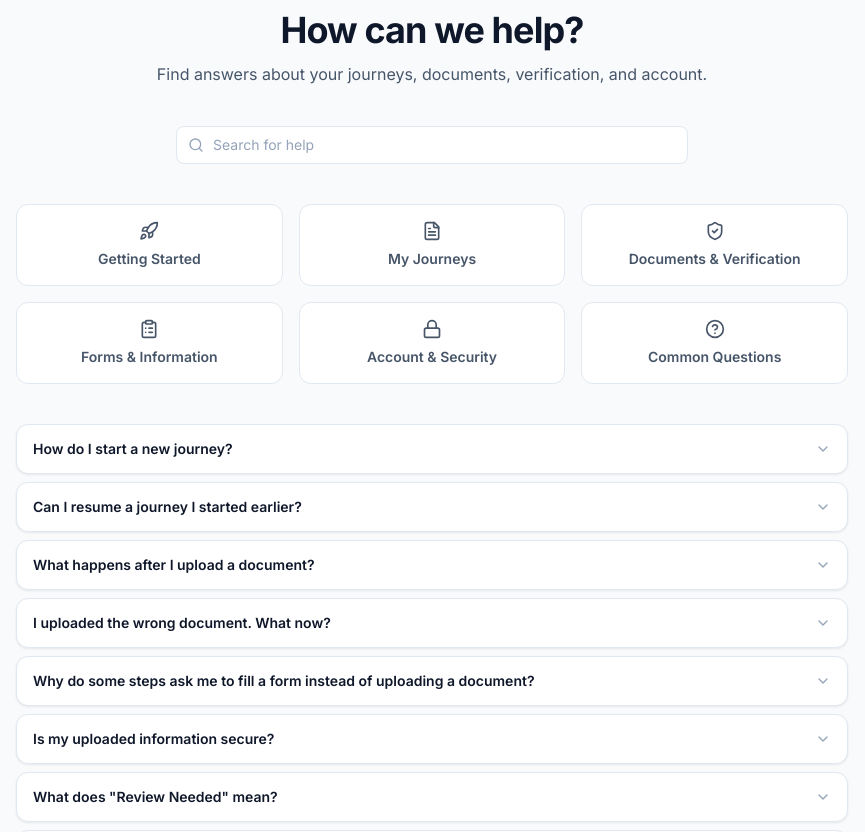
it: HelpScreen › expands and collapses an FAQ item on click
The width and height of the screenshot is (865, 832).
What coordinates should you click on to do the following:
click the button with test id "faq-trigger-faq-start-journey"
I would click on:
 (133, 448)
Its box is [17,425,847,473].
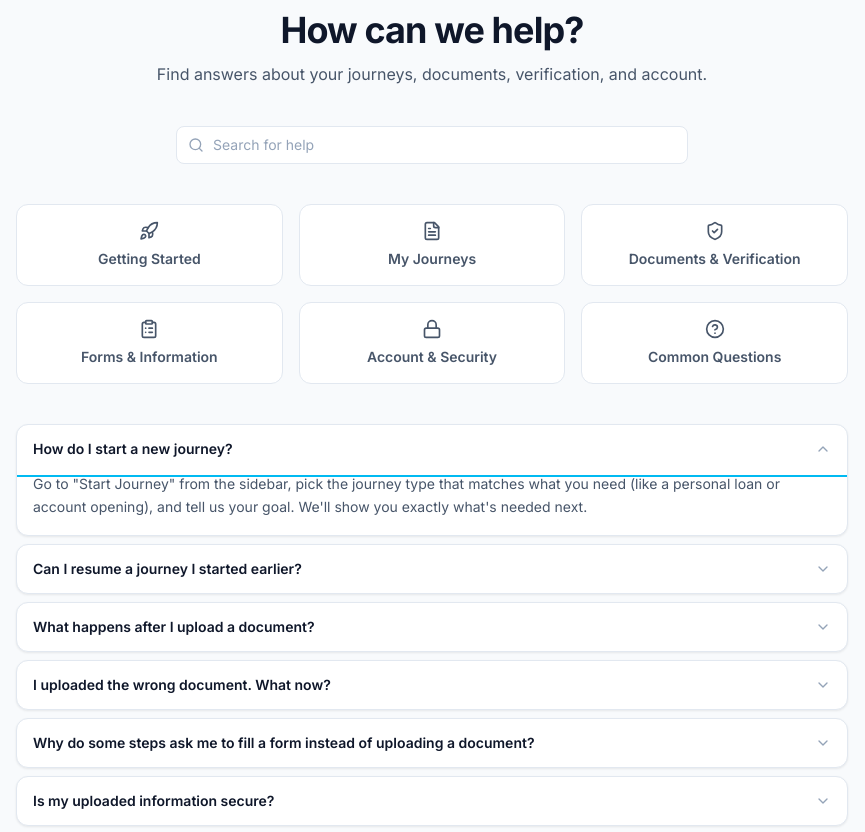
Check: the button with test id "faq-trigger-faq-start-journey" is expanded
What coordinates should you click on to do the following:
click the button with test id "faq-trigger-faq-start-journey"
I would click on:
 (133, 448)
Its box is [17,425,847,473].
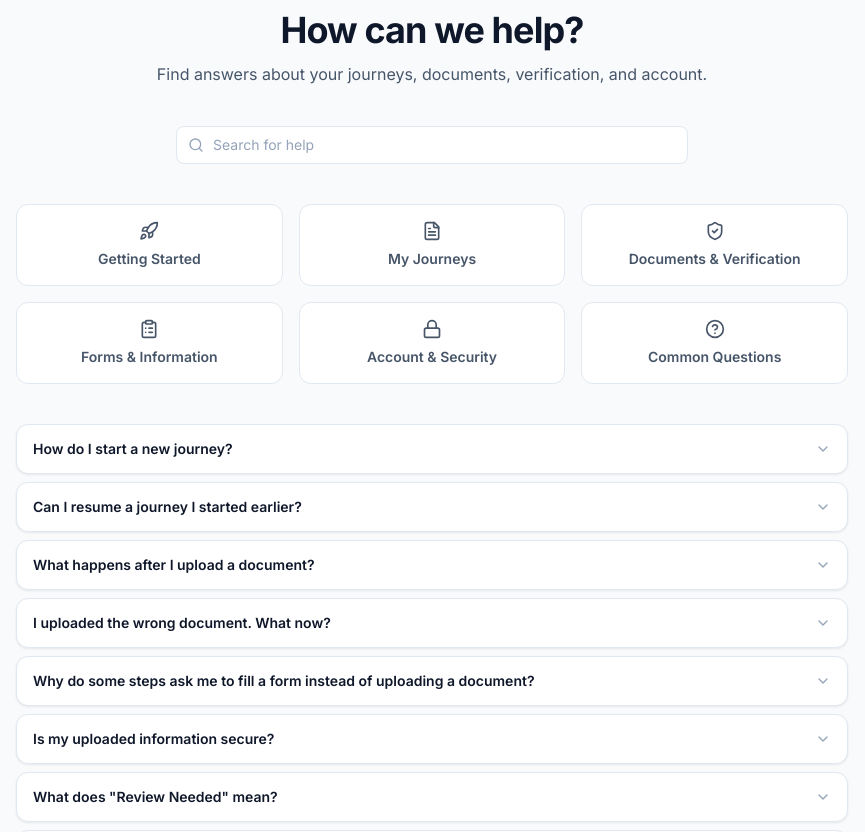
Check: the button with test id "faq-trigger-faq-start-journey" is collapsed, box [17,425,847,473]
